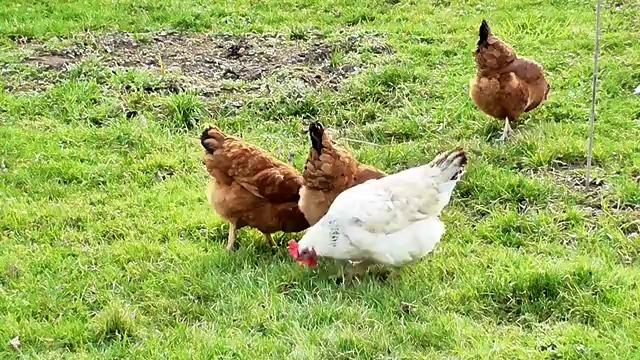Normal: (295, 155, 451, 270), (201, 118, 299, 241), (469, 19, 552, 136), (306, 119, 387, 230)
